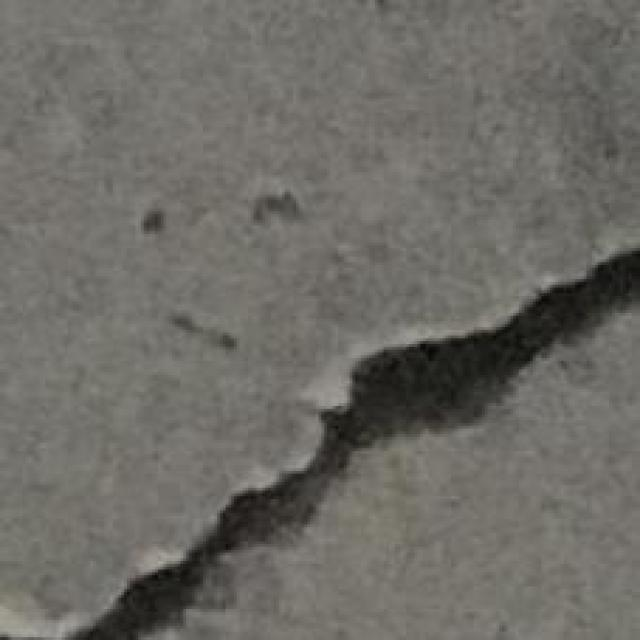Crack: (76, 250, 640, 640)
